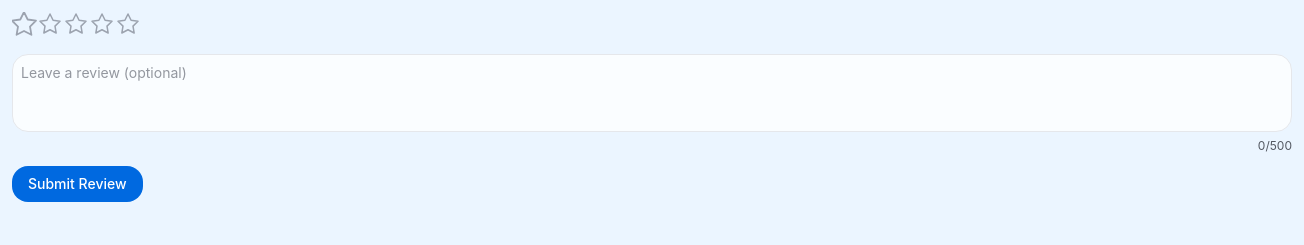
Scenario: ReviewForm › shows validation error when submitting without selecting a rating
The width and height of the screenshot is (1304, 245).
What coordinates should you click on to do the following:
click the button "Submit Review"
I would click on:
 (77, 184)
Its box is x1=12 y1=166 x2=143 y2=202.
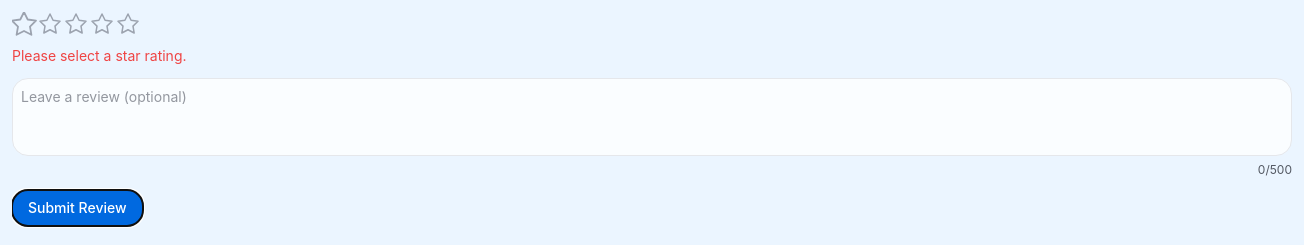
Now the text "Please select a star rating." is shown, box x1=12 y1=47 x2=186 y2=64
